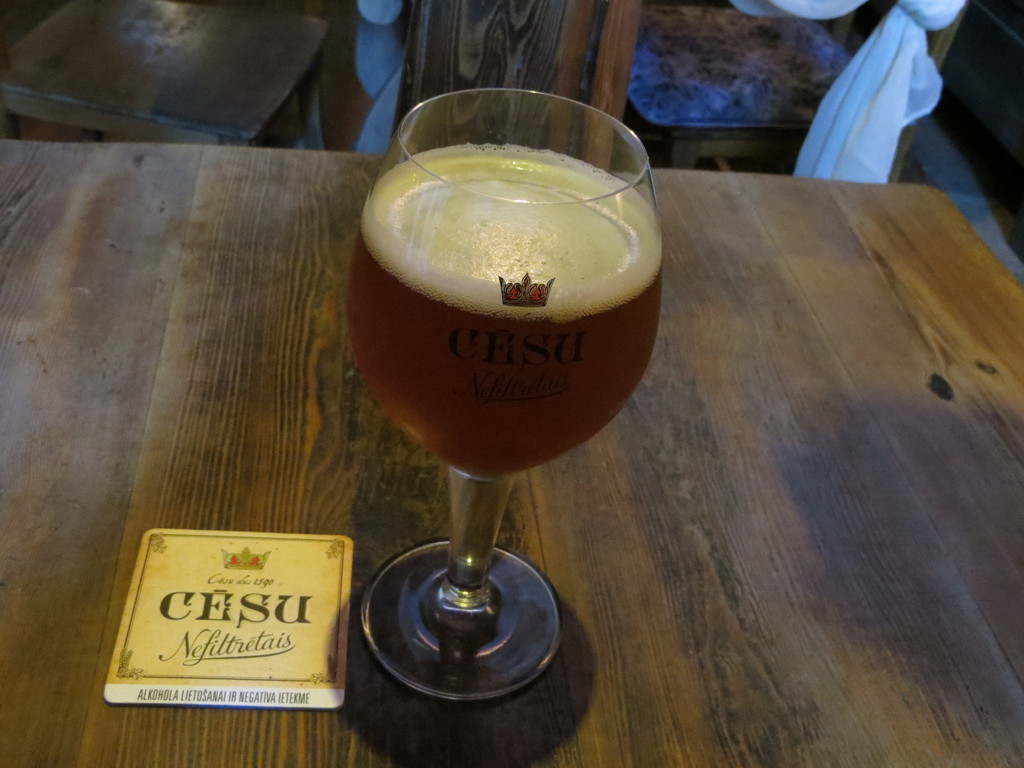Beer: (348, 156, 661, 481)
